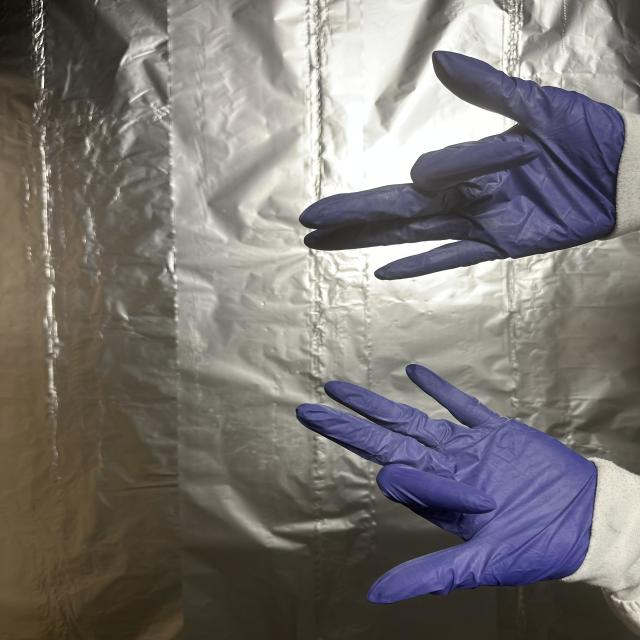gloves_contaminated: (300, 52, 630, 280), (296, 365, 596, 603)
